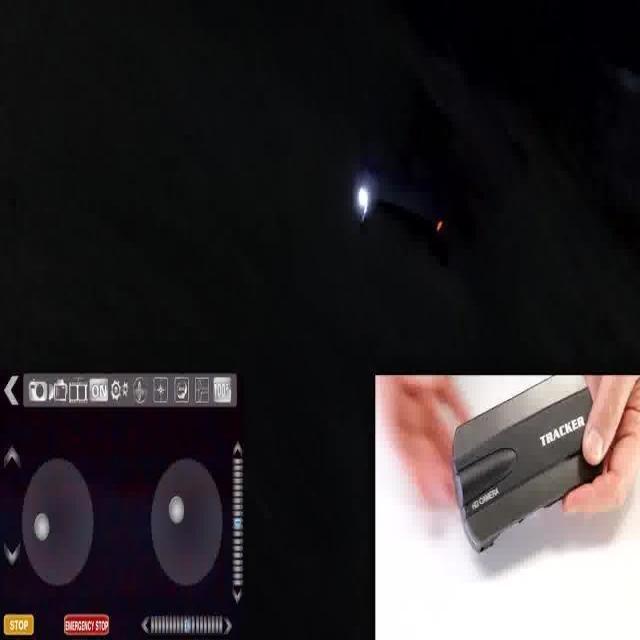drones: (342, 187, 502, 297)
